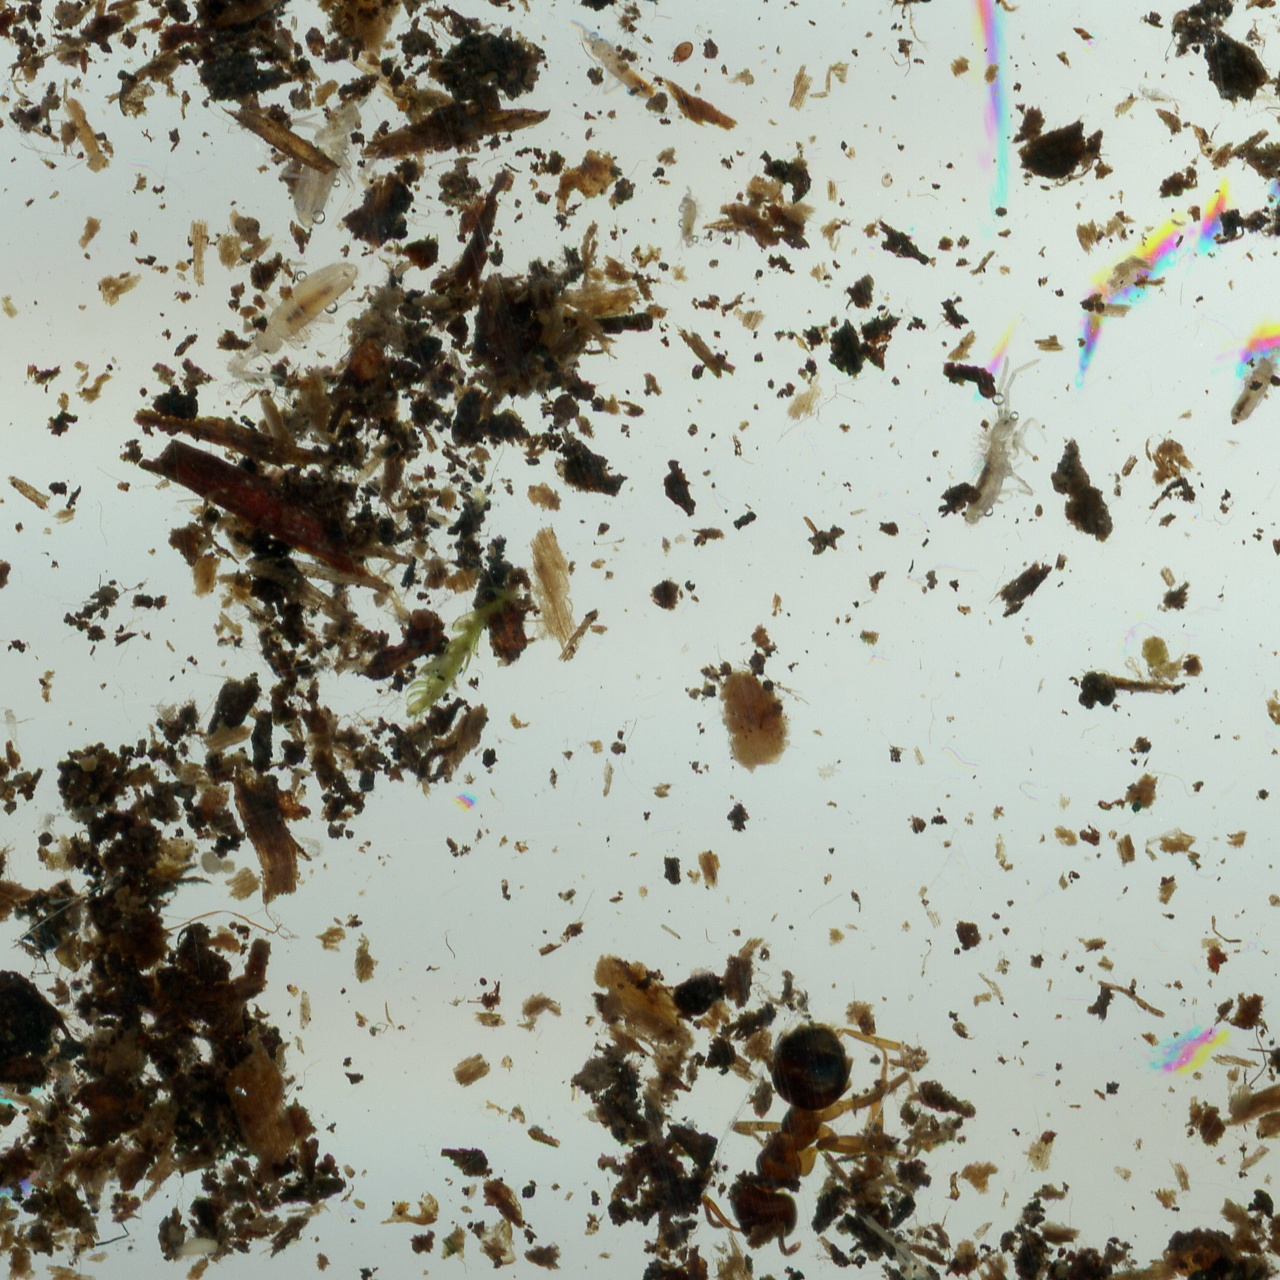arthropod: (692, 996, 927, 1279), (258, 22, 414, 247), (195, 220, 380, 409), (947, 342, 1069, 544), (545, 5, 665, 125), (1213, 336, 1280, 438), (675, 181, 707, 251), (0, 700, 39, 757), (1131, 79, 1190, 114), (292, 828, 328, 860), (33, 810, 64, 840), (666, 40, 699, 69), (148, 697, 178, 724), (53, 1071, 77, 1103)
